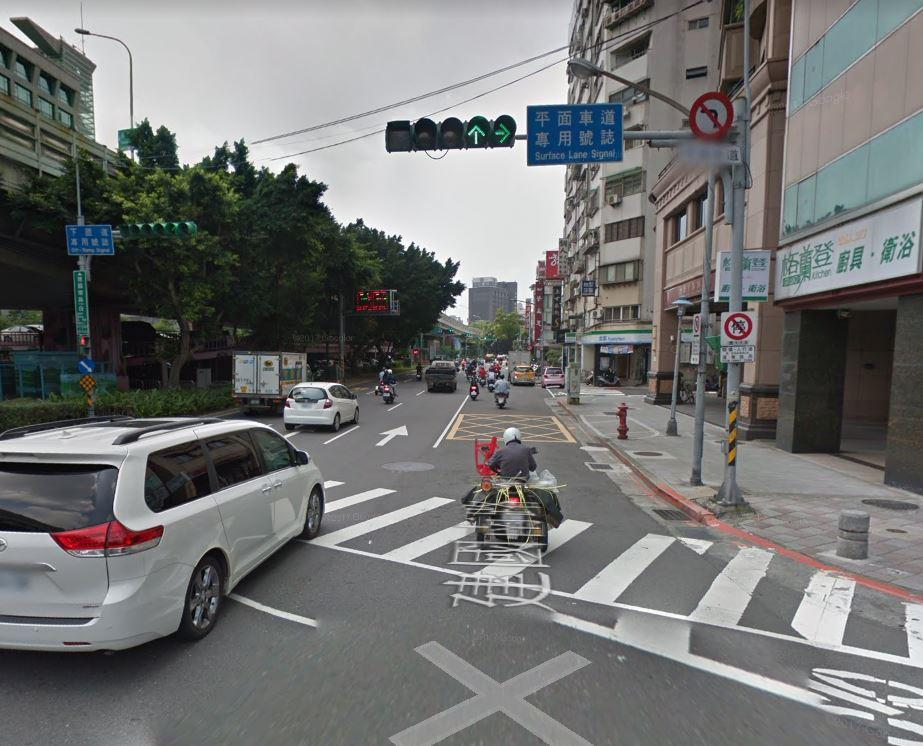car: (0, 415, 332, 667), (283, 379, 366, 436)
green_traffic_light: (411, 113, 515, 144)
no_left_turn: (689, 91, 733, 138)
